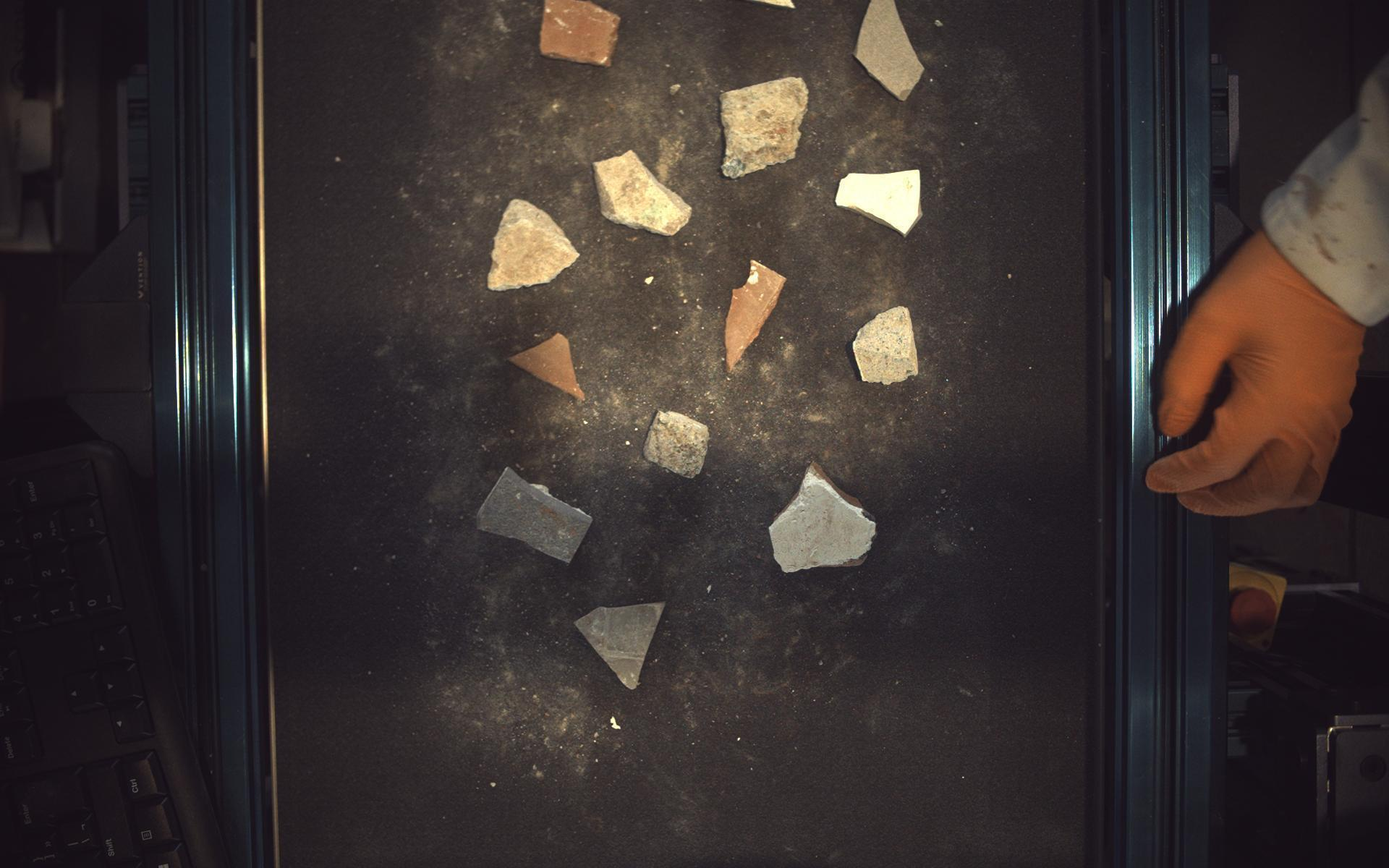brick: (770, 462, 878, 574), (727, 260, 787, 371), (540, 1, 621, 64), (510, 333, 585, 400)
concrete: (721, 77, 810, 177), (488, 198, 579, 290), (595, 149, 692, 235), (854, 306, 920, 385), (645, 410, 710, 478)
tile: (478, 467, 592, 563), (577, 603, 666, 691), (857, 1, 926, 100), (837, 169, 924, 236)
